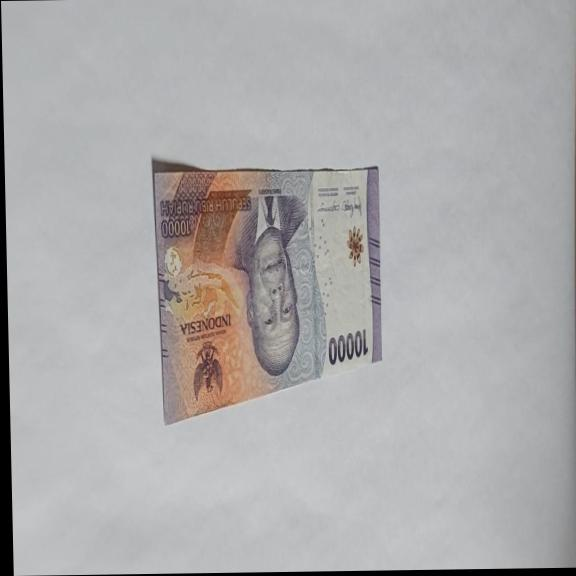Kertas: (151, 156, 384, 426)
